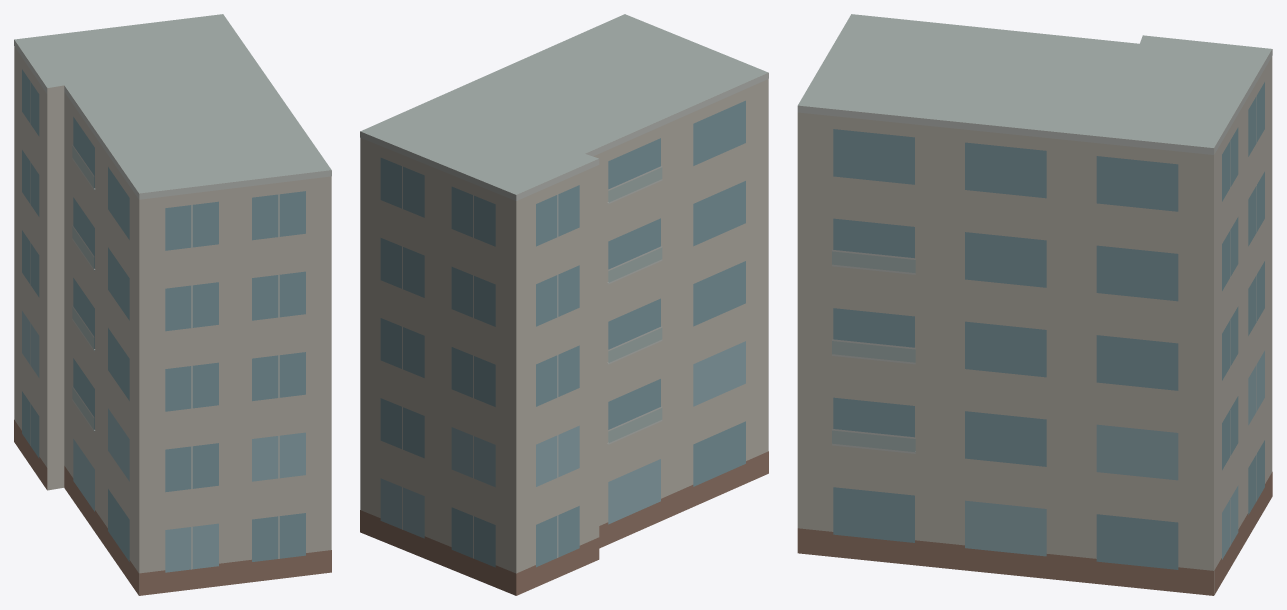
File: survey-upis-32751931.glb
3 renders of one model, left to right at view 1: azimuth 30°, elevation 25°; view 2: azimuth 150°, elevation 25°; view 3: azimuth 270°, elevation 25°, orthographic. The views are drawn at different scales.
Parts seen in each view (by area): view 1: survey-upis-32751931.tmp; view 2: survey-upis-32751931.tmp; view 3: survey-upis-32751931.tmp.
Part boxes in pixels (box(x1,y1,x2,y2)): survey-upis-32751931.tmp: box(14, 14, 331, 595); survey-upis-32751931.tmp: box(360, 14, 768, 595); survey-upis-32751931.tmp: box(797, 14, 1272, 595).
Bounding box in the file's own units: 10.13 × 15.75 × 15.15.
